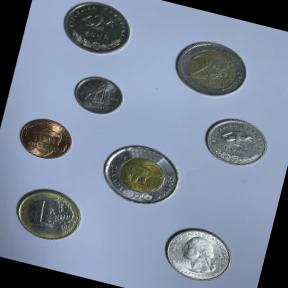coin: (90, 132, 192, 216), (166, 28, 258, 107), (155, 217, 239, 288), (7, 179, 88, 252), (53, 0, 139, 62), (11, 109, 82, 167), (64, 66, 134, 122)
